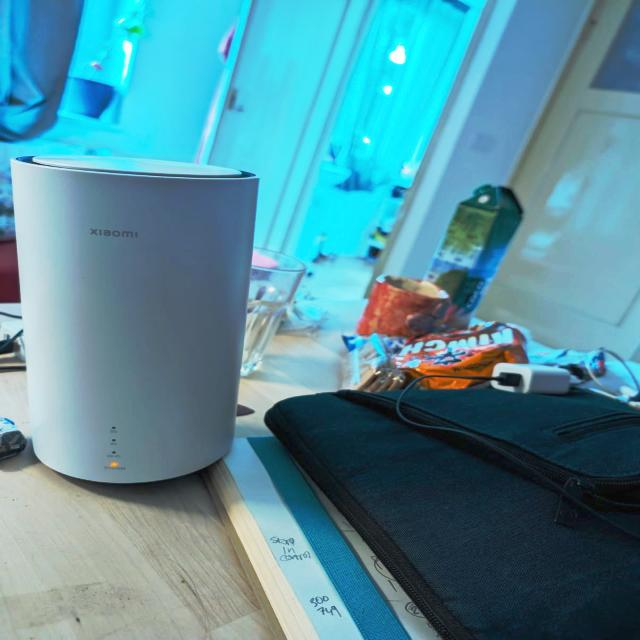modem: (0, 155, 260, 486)
